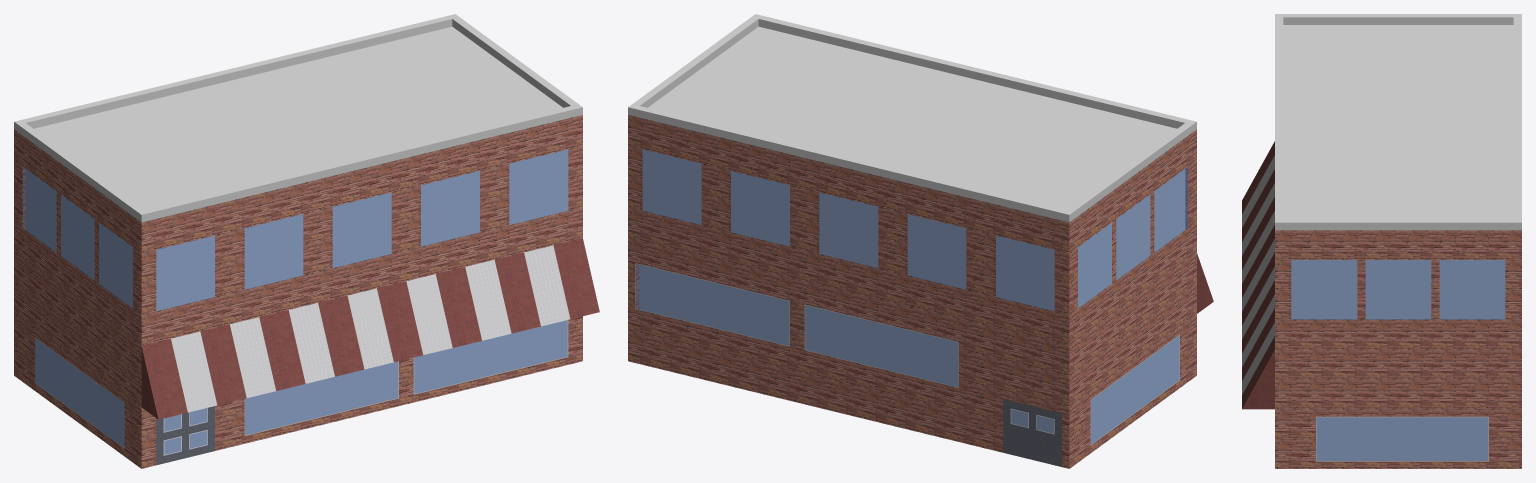
Rendered from bikeri.glb.
The picture shows the model from 3 angles, left to right: view 1: azimuth 30°, elevation 25°; view 2: azimuth 150°, elevation 25°; view 3: azimuth 270°, elevation 25°; orthographic projection. The views are drawn at different scales.
Visible parts, largest first — view 1: _(Loose Entity); view 2: _(Loose Entity); view 3: _(Loose Entity).
Boxes of the visible parts, x1,y1,x2,y2 form: _(Loose Entity): (14, 14, 599, 468); _(Loose Entity): (628, 14, 1213, 468); _(Loose Entity): (1242, 14, 1521, 468).
Size of the model in its own units: 18.29 by 10.06 by 10.36.
Materials: 7 (4 with a texture image).
